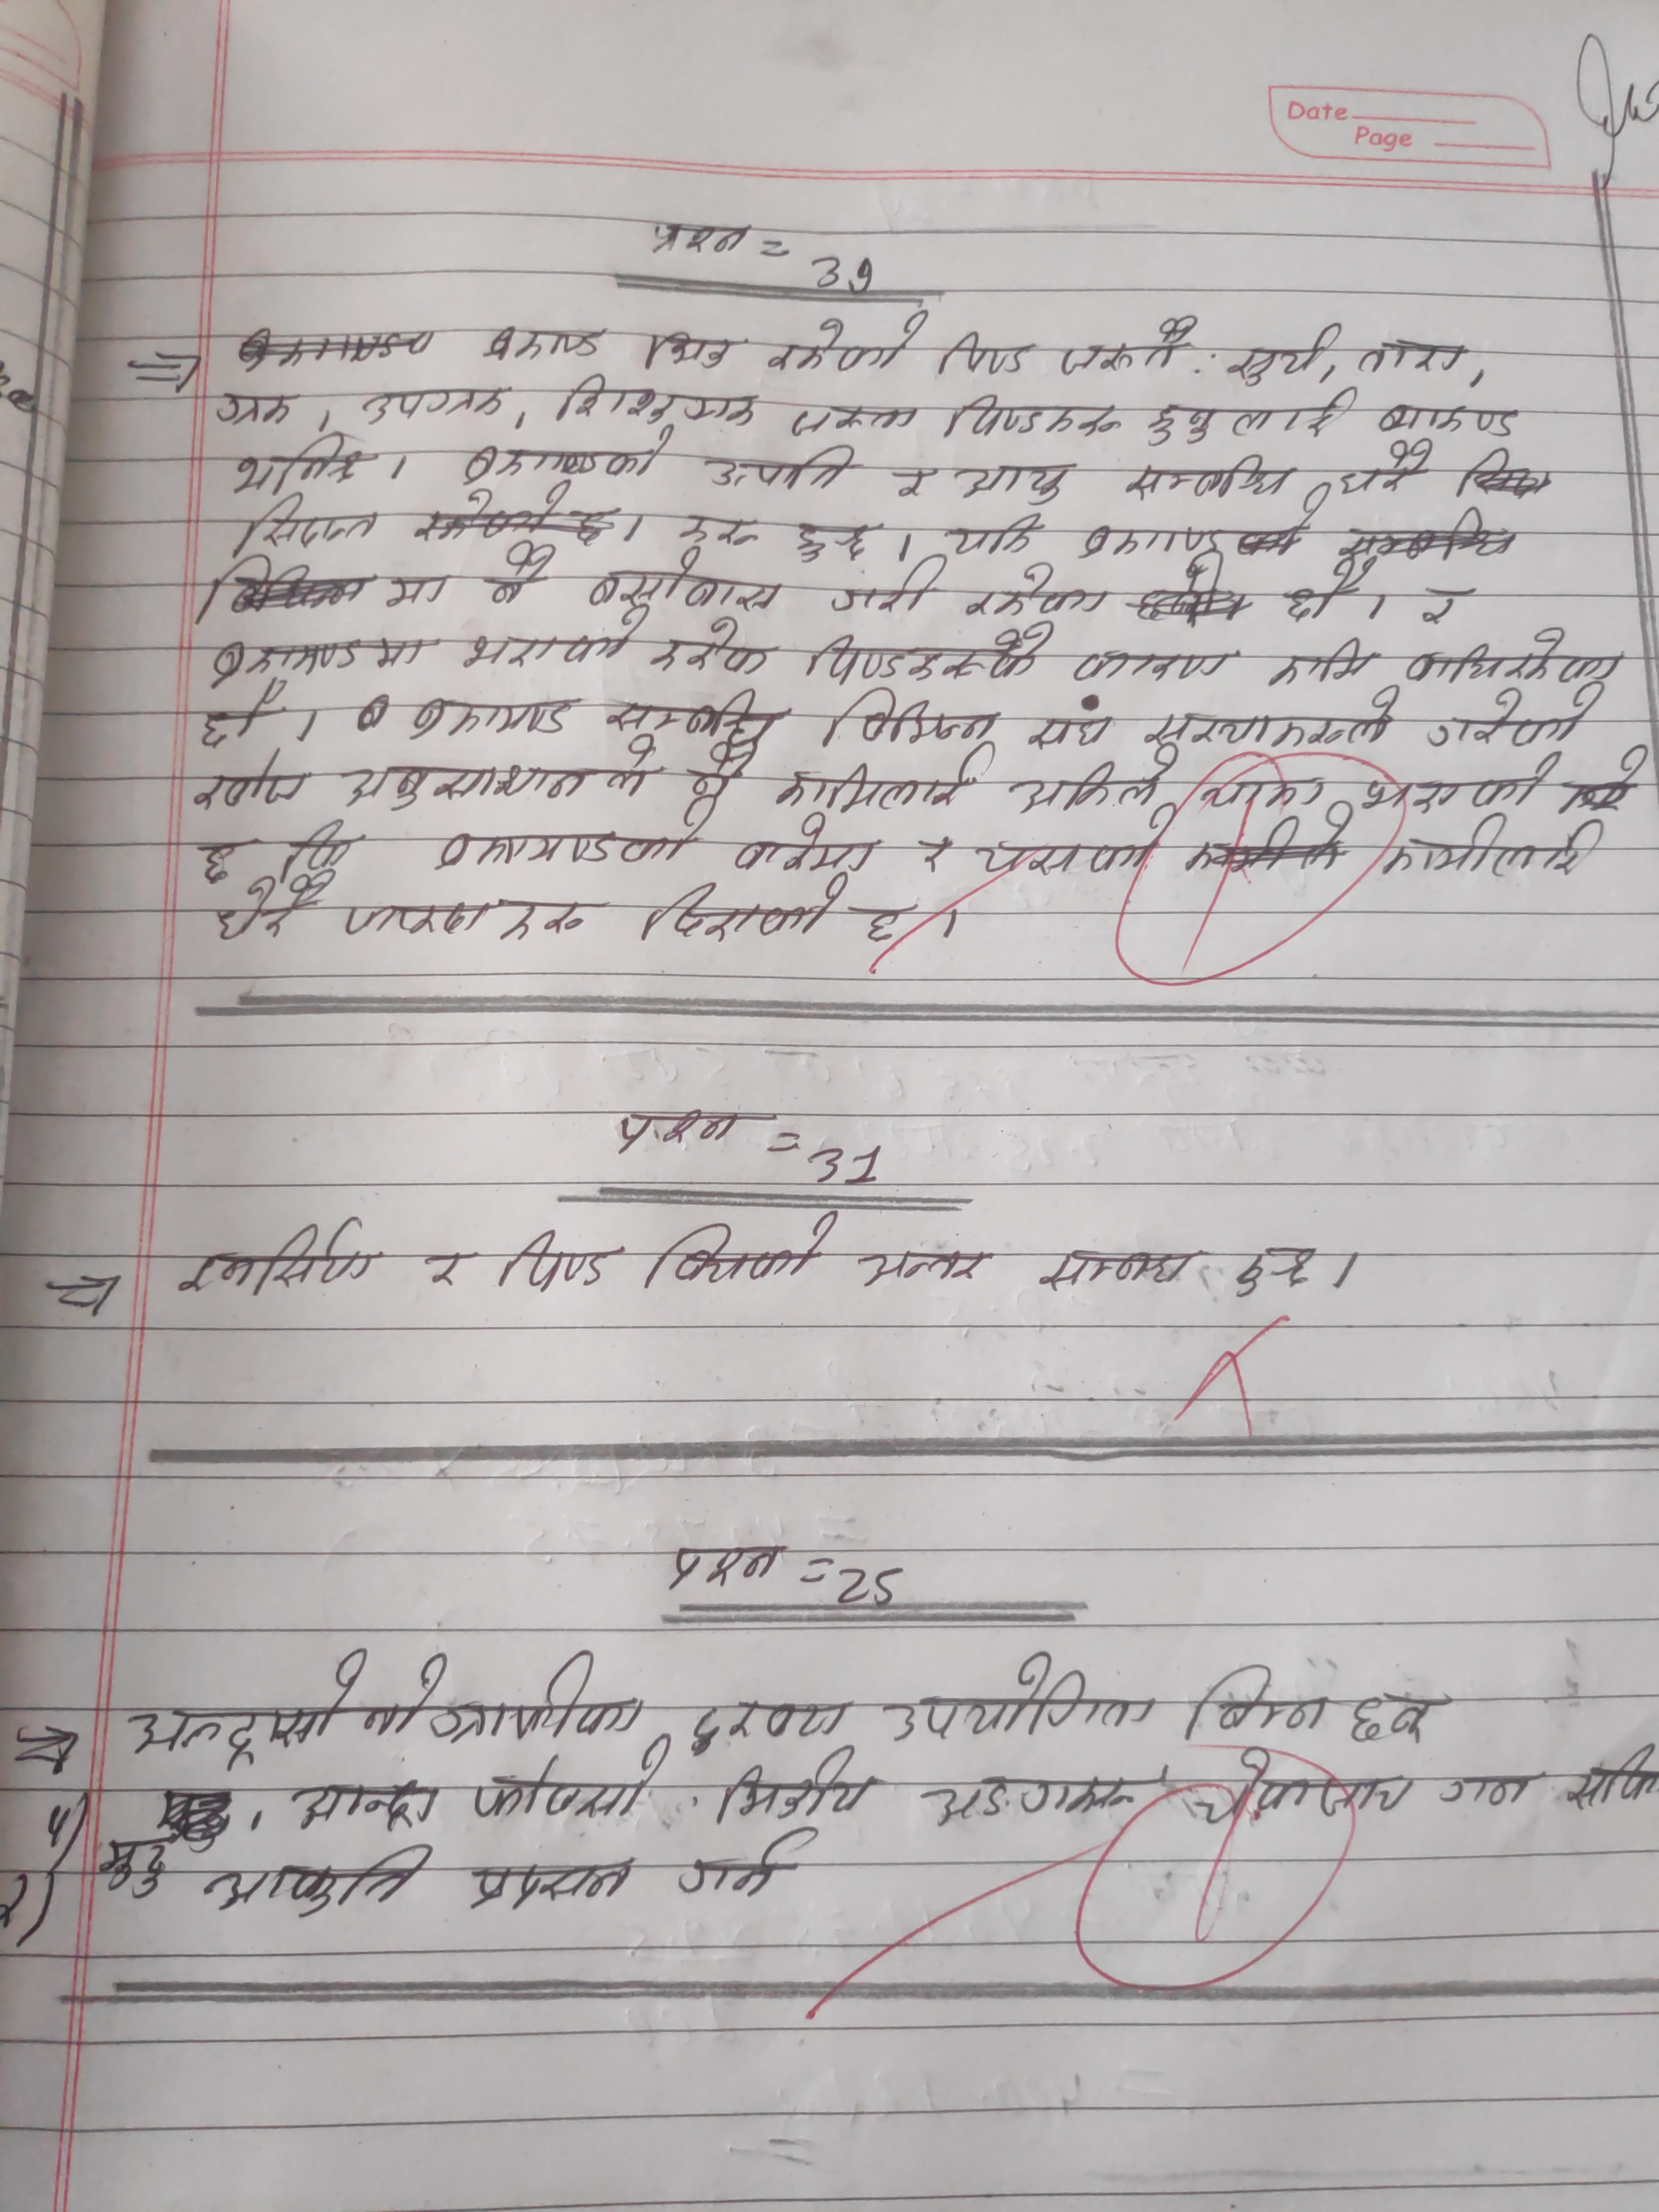text: (125, 1648, 364, 1770), (361, 1646, 647, 1742), (882, 1649, 1164, 1742), (340, 735, 662, 810), (436, 801, 716, 871), (1185, 1747, 1419, 1827), (202, 1839, 436, 1918), (647, 1209, 842, 1301), (174, 1219, 382, 1299), (469, 1742, 676, 1822), (802, 622, 1056, 686), (1141, 686, 1399, 747), (1380, 815, 1603, 885), (969, 808, 1178, 881), (774, 745, 999, 812), (638, 876, 850, 944), (582, 549, 789, 615), (929, 1770, 1136, 1836), (458, 423, 681, 484), (343, 895, 601, 946), (1183, 1660, 1333, 1743), (1359, 754, 1563, 815), (714, 1754, 877, 1829), (460, 606, 648, 671), (1399, 631, 1622, 685), (674, 1825, 817, 1909), (1143, 392, 1344, 451), (202, 634, 432, 683), (819, 688, 1002, 749), (603, 683, 781, 745), (1424, 690, 1617, 747), (1007, 744, 1178, 808), (758, 315, 925, 380), (554, 374, 765, 425), (225, 495, 380, 559), (727, 815, 882, 878), (465, 1855, 636, 1911), (1056, 315, 1197, 381), (1033, 1244, 1204, 1298), (685, 1695, 845, 1752), (404, 693, 572, 747), (1124, 451, 1295, 503), (211, 876, 333, 949), (291, 1778, 439, 1836), (948, 394, 1126, 441), (964, 564, 1112, 620), (695, 441, 857, 491), (852, 1244, 1002, 1298), (230, 435, 366, 495), (498, 1228, 617, 1294), (612, 1106, 755, 1160), (188, 752, 310, 815), (1560, 1740, 1659, 1817), (653, 618, 774, 681), (953, 451, 1080, 509), (1223, 322, 1335, 387), (826, 561, 945, 620), (1265, 634, 1382, 690), (788, 392, 917, 441), (1338, 437, 1436, 500), (1072, 521, 1223, 561), (664, 1540, 784, 1590), (1073, 650, 1236, 686), (1284, 554, 1373, 620), (1377, 401, 1523, 441), (352, 387, 511, 423), (1354, 333, 1471, 381), (1344, 1686, 1434, 1749), (197, 681, 277, 751), (1230, 1242, 1323, 1299), (1025, 697, 1119, 752), (932, 331, 1033, 380), (1436, 1768, 1537, 1817), (645, 216, 749, 263), (483, 540, 554, 608), (945, 510, 1044, 559), (476, 327, 606, 364), (685, 737, 758, 799), (281, 812, 356, 873), (101, 1838, 174, 1897), (1202, 777, 1330, 808), (640, 331, 737, 371), (211, 385, 295, 430), (676, 510, 765, 552), (786, 521, 868, 566), (1413, 585, 1476, 637), (195, 833, 242, 890), (383, 571, 450, 611), (857, 897, 910, 944), (420, 1247, 474, 1291), (918, 833, 955, 880), (894, 467, 934, 505)
